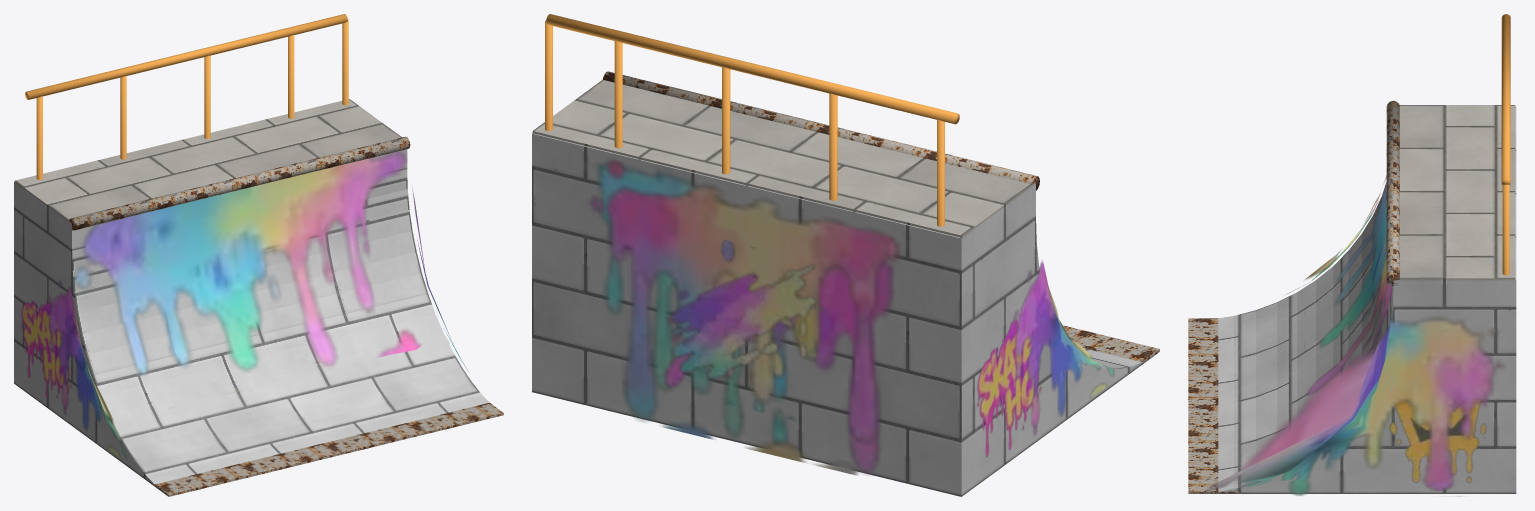
File: QuarterPipe.glb
3 renders of one model, left to right at view 1: azimuth 30°, elevation 25°; view 2: azimuth 150°, elevation 25°; view 3: azimuth 270°, elevation 25°, orthographic. The views are drawn at different scales.
Visible parts, largest first — view 1: QuarterPipe_Body, QuarterPipe_Paint, QuarterPipe_Deck, QuarterPipe_Coping, QuarterPipe_BackRail, QuarterPipe_GfxL; view 2: QuarterPipe_Body, QuarterPipe_Paint, QuarterPipe_Deck, QuarterPipe_BackRail, QuarterPipe_Coping, QuarterPipe_GfxL; view 3: QuarterPipe_Body, QuarterPipe_Paint, QuarterPipe_Deck, QuarterPipe_Coping, QuarterPipe_GfxL, QuarterPipe_BackRail.
Part boxes in pixels (x1=…): QuarterPipe_Body: x1=14, y1=149, x2=489, y2=494; QuarterPipe_Paint: x1=47, y1=151, x2=468, y2=458; QuarterPipe_Deck: x1=14, y1=99, x2=401, y2=223; QuarterPipe_Coping: x1=69, y1=136, x2=503, y2=496; QuarterPipe_BackRail: x1=25, y1=14, x2=348, y2=179; QuarterPipe_GfxL: x1=21, y1=300, x2=71, y2=398; QuarterPipe_Body: x1=532, y1=133, x2=1158, y2=496; QuarterPipe_Paint: x1=588, y1=159, x2=1114, y2=475; QuarterPipe_Deck: x1=532, y1=80, x2=1035, y2=237; QuarterPipe_BackRail: x1=545, y1=14, x2=959, y2=226; QuarterPipe_Coping: x1=602, y1=71, x2=1159, y2=362; QuarterPipe_GfxL: x1=977, y1=319, x2=1041, y2=457; QuarterPipe_Body: x1=1193, y1=106, x2=1516, y2=493; QuarterPipe_Paint: x1=1203, y1=175, x2=1505, y2=496; QuarterPipe_Deck: x1=1394, y1=105, x2=1515, y2=280; QuarterPipe_Coping: x1=1188, y1=100, x2=1399, y2=493; QuarterPipe_GfxL: x1=1389, y1=399, x2=1486, y2=482; QuarterPipe_BackRail: x1=1501, y1=14, x2=1510, y2=275.
Size of the model in its own units: 4.08 by 3.38 by 3.24.
Materials: 5 (4 with a texture image).
